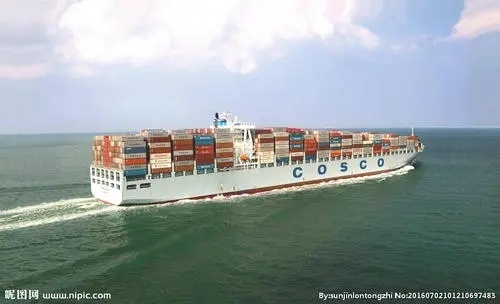Cargoship: (80, 109, 424, 205)
